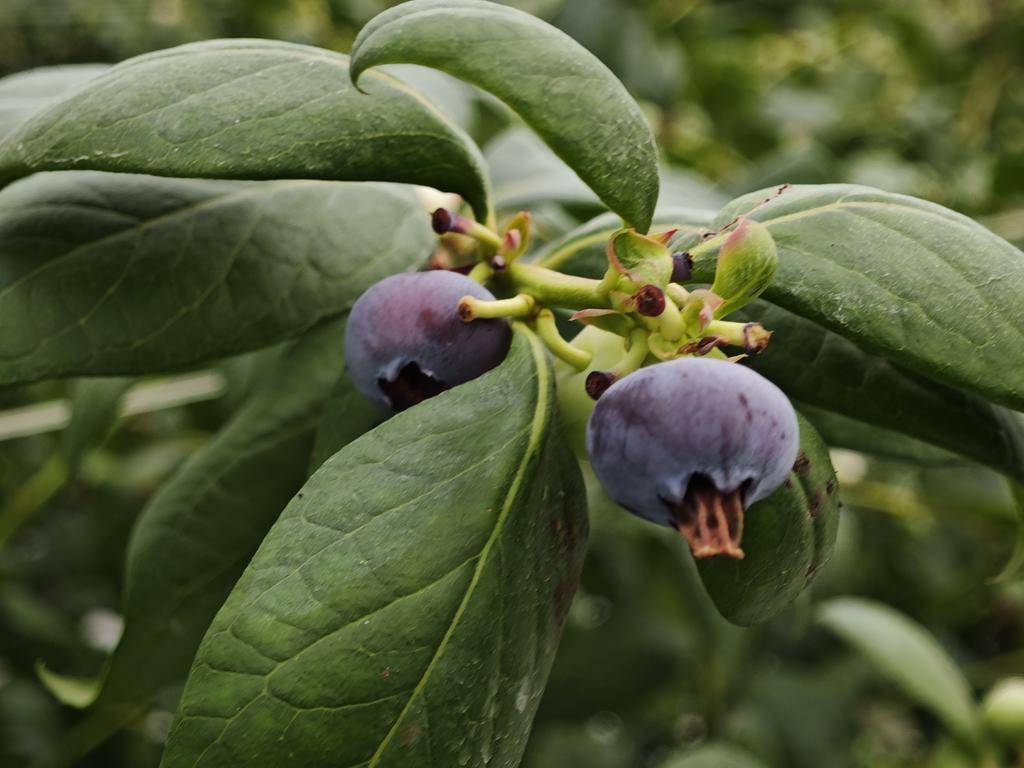RipeBlueBerry: (582, 356, 803, 526), (341, 265, 516, 411)
